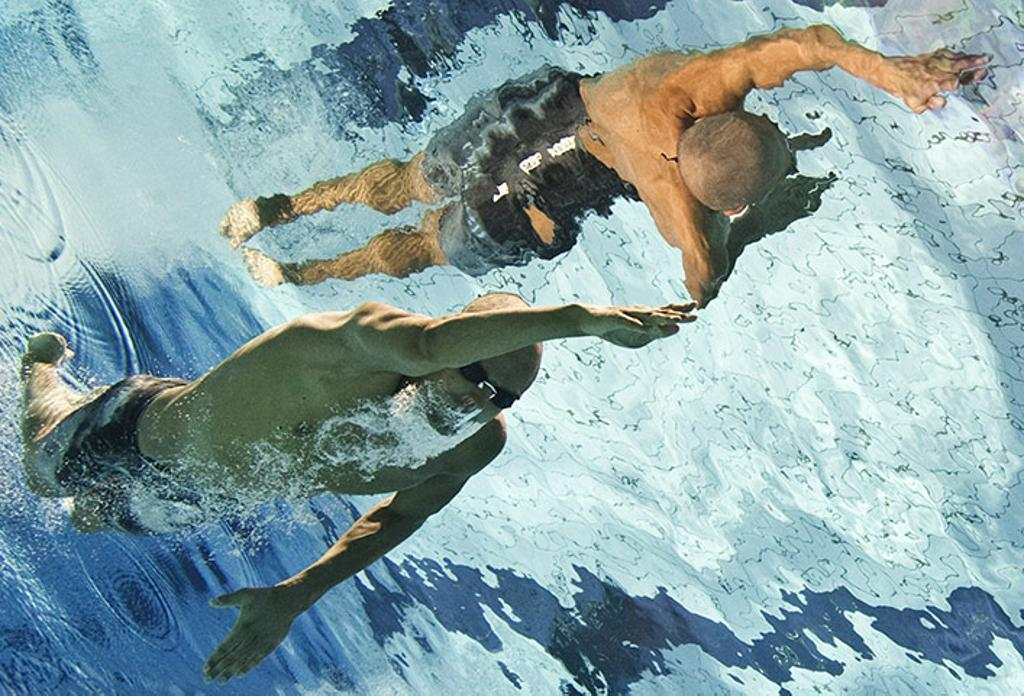face: (433, 353, 517, 435)
